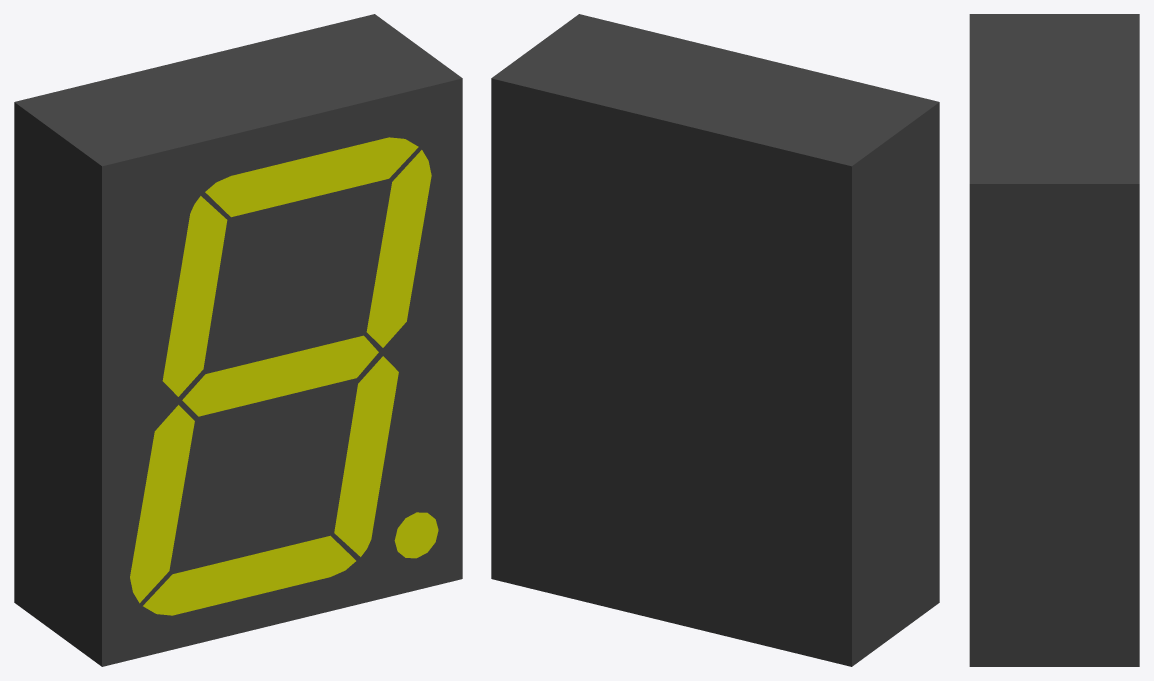
Rendered from 7seg.fbx.
3 views of the same model, side by side, from view 1: azimuth 30°, elevation 25°; view 2: azimuth 150°, elevation 25°; view 3: azimuth 270°, elevation 25° (orthographic). The views are drawn at different scales.
Visible parts, largest first — view 1: housing, a, d, g, c, f, e, b, p; view 2: housing; view 3: housing.
Boxes of the visible parts, x1=… form: housing: x1=14, y1=14, x2=462, y2=666; a: x1=205, y1=137, x2=418, y2=217; d: x1=143, y1=535, x2=355, y2=615; g: x1=182, y1=335, x2=378, y2=416; c: x1=334, y1=356, x2=398, y2=556; f: x1=162, y1=196, x2=227, y2=396; e: x1=130, y1=405, x2=194, y2=603; b: x1=366, y1=150, x2=431, y2=347; p: x1=394, y1=512, x2=438, y2=558; housing: x1=491, y1=14, x2=939, y2=666; housing: x1=969, y1=14, x2=1139, y2=666.
Bounding box in the file's own units: 4.05 × 5.37 × 1.72.
